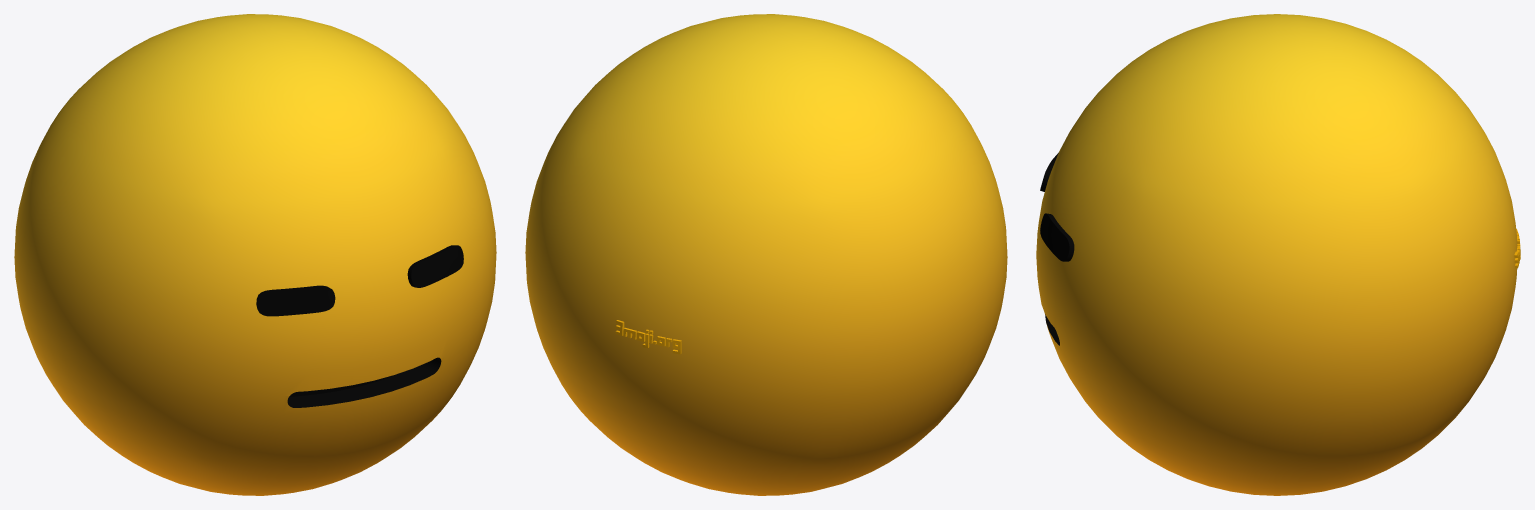
Rendered from expressionless_face.glb.
3 renders of one model, left to right at view 1: azimuth 30°, elevation 25°; view 2: azimuth 150°, elevation 25°; view 3: azimuth 270°, elevation 25°, orthographic.
Visible parts, largest first — view 1: Expressionless Face; view 2: Expressionless Face; view 3: Expressionless Face.
Part boxes in pixels (x1,y1,x2,y2): Expressionless Face: [14, 14, 496, 495]; Expressionless Face: [525, 14, 1007, 495]; Expressionless Face: [1036, 14, 1520, 495].
Bounding box in the file's own units: 1.69 × 1.69 × 1.7.
Materials: 1 (1 with a texture image).
